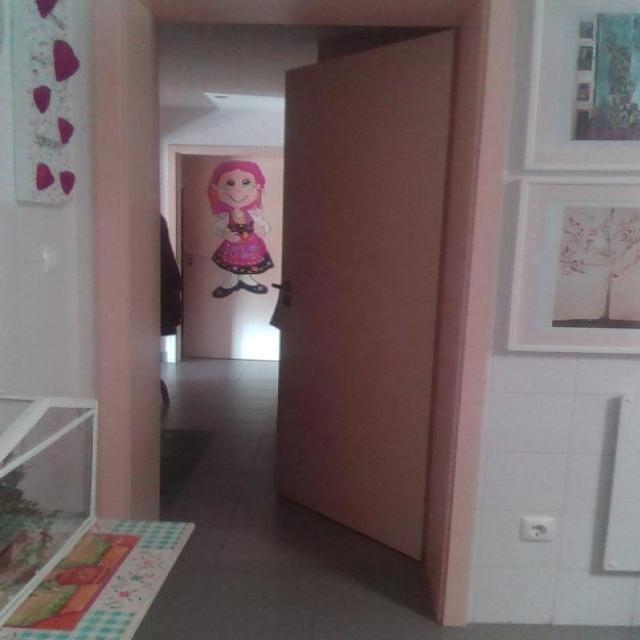door: (272, 28, 457, 561)
